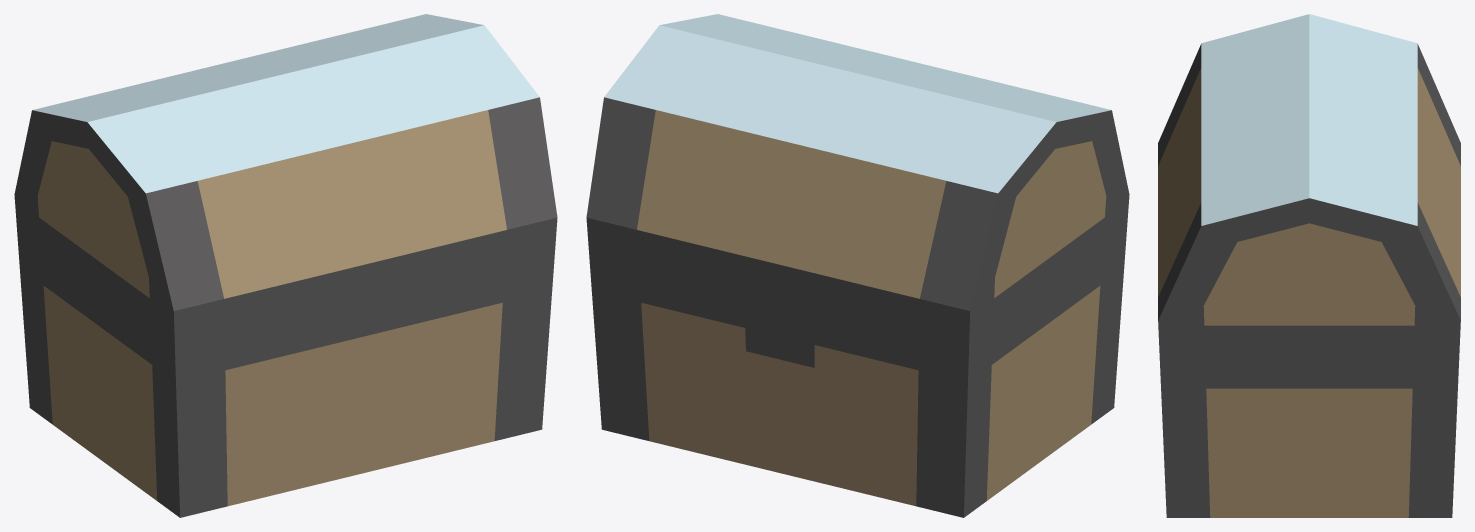
File: SM_Prop_TreasureChest_Closed_01_Snow.glb
3 views of the same model, side by side, from view 1: azimuth 30°, elevation 25°; view 2: azimuth 150°, elevation 25°; view 3: azimuth 270°, elevation 25° (orthographic). The views are drawn at different scales.
Parts seen in each view (by area): view 1: SM_Prop_TreasureChest_Closed_01_Snow; view 2: SM_Prop_TreasureChest_Closed_01_Snow; view 3: SM_Prop_TreasureChest_Closed_01_Snow.
Boxes of the visible parts, <box> form: SM_Prop_TreasureChest_Closed_01_Snow: <box>14,14,557,517</box>; SM_Prop_TreasureChest_Closed_01_Snow: <box>586,14,1129,517</box>; SM_Prop_TreasureChest_Closed_01_Snow: <box>1158,14,1460,517</box>.
Bounding box in the file's own units: 0.6506 × 0.5402 × 0.452.
Materials: 1 (1 with a texture image).
